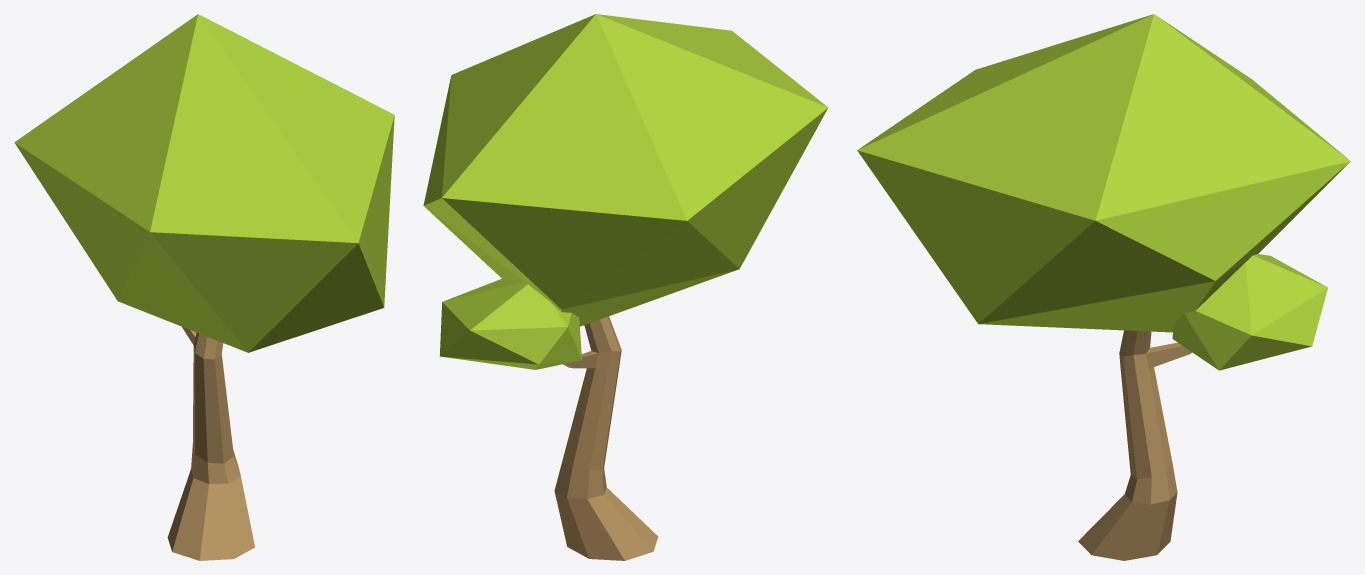
Rendered from tree2.fbx.
3 views of the same model, side by side, from view 1: azimuth 30°, elevation 25°; view 2: azimuth 150°, elevation 25°; view 3: azimuth 270°, elevation 25° (orthographic). The views are drawn at different scales.
Visible parts, largest first — view 1: Tree; view 2: Tree; view 3: Tree.
Boxes of the visible parts, left/top/right/bottom form: Tree: left=14, top=14, right=394, bottom=560; Tree: left=423, top=14, right=828, bottom=560; Tree: left=857, top=14, right=1350, bottom=560.
Size of the model in its own units: 0.5944 by 0.9681 by 0.8203.
